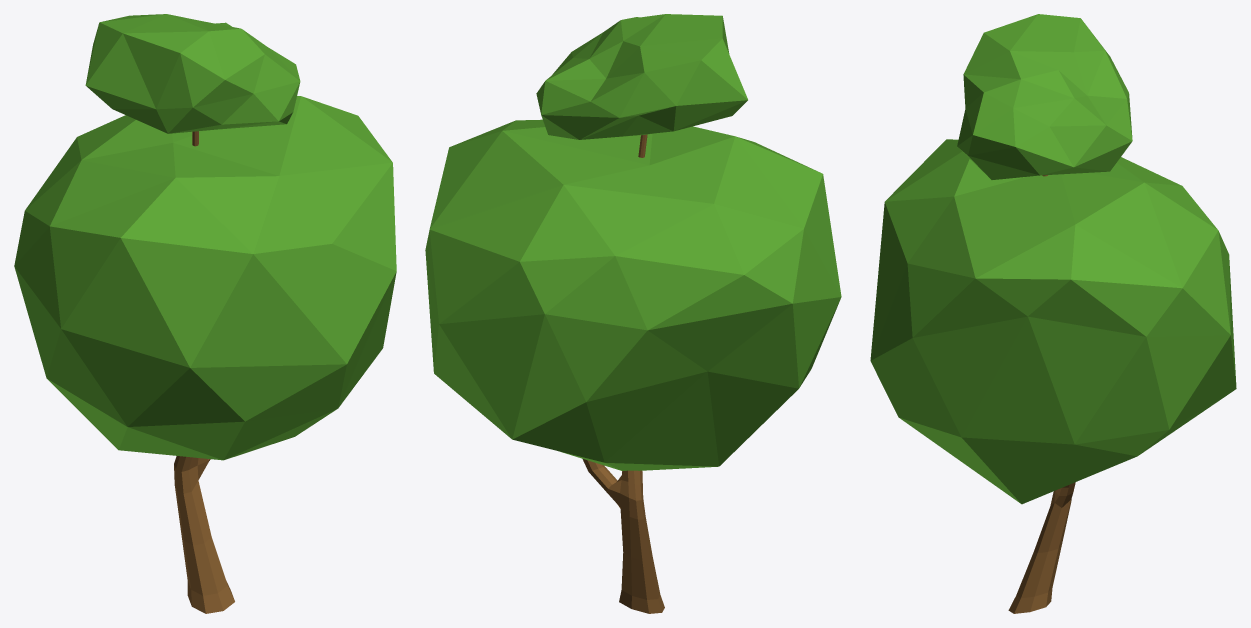
The model's file is result.gltf.
The picture shows the model from 3 angles, left to right: view 1: azimuth 30°, elevation 25°; view 2: azimuth 150°, elevation 25°; view 3: azimuth 270°, elevation 25°; orthographic projection. The views are drawn at different scales.
Visible parts, largest first — view 1: Bush_2; view 2: Bush_2; view 3: Bush_2.
Part boxes in pixels (bbox=[...]): Bush_2: bbox=[14, 14, 396, 613]; Bush_2: bbox=[425, 14, 841, 613]; Bush_2: bbox=[870, 14, 1236, 613].
Bounding box in the file's own units: 155 × 254 × 151.
